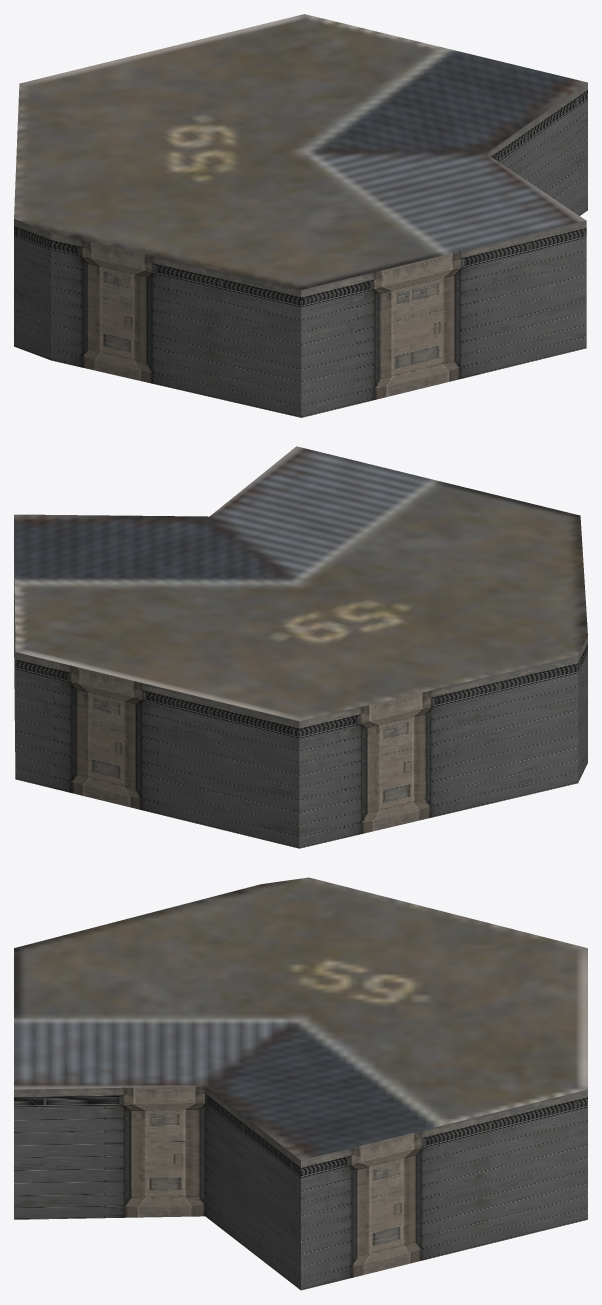
File: hangar_light_59.glb
The picture shows the model from 3 angles, top to bottom: view 1: azimuth 30°, elevation 25°; view 2: azimuth 150°, elevation 25°; view 3: azimuth 270°, elevation 25°; orthographic projection. The views are drawn at different scales.
Visible parts, largest first — view 1: buildings/saxarba/hangar_light/hangar_light_59; view 2: buildings/saxarba/hangar_light/hangar_light_59; view 3: buildings/saxarba/hangar_light/hangar_light_59.
Part boxes in pixels (bbox=[...]): buildings/saxarba/hangar_light/hangar_light_59: bbox=[14, 14, 587, 417]; buildings/saxarba/hangar_light/hangar_light_59: bbox=[14, 446, 587, 848]; buildings/saxarba/hangar_light/hangar_light_59: bbox=[14, 877, 587, 1290].
Bounding box in the file's own units: 84 × 18 × 72.
